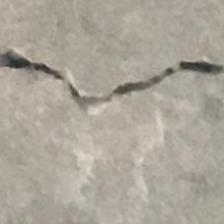Crack: (0, 42, 224, 118)
